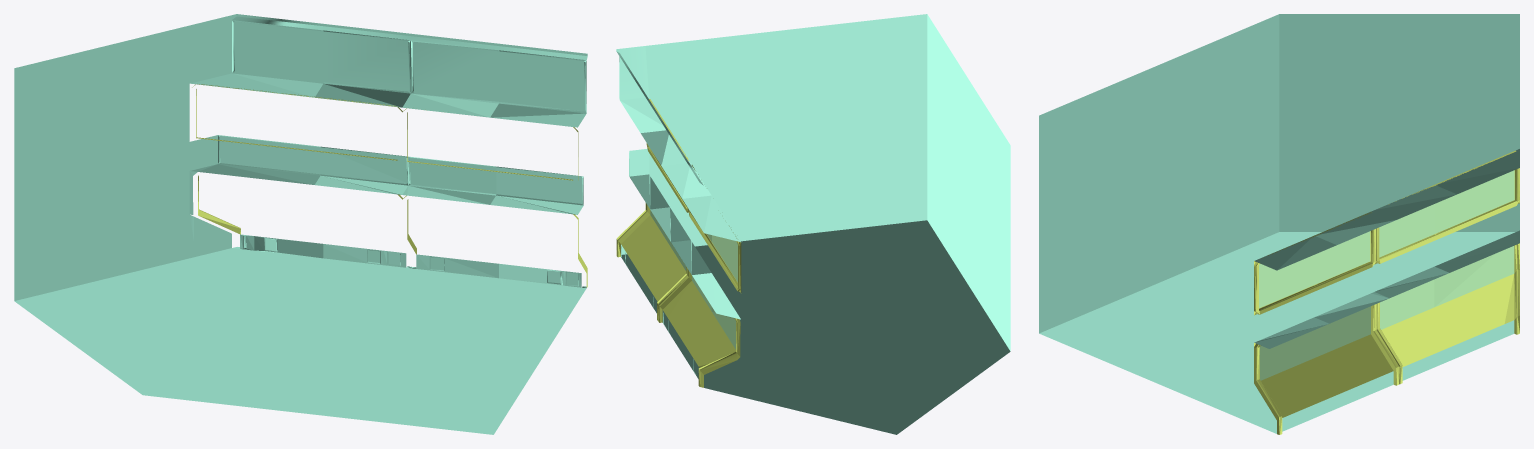
Rendered from uee_stanton_kit_ext_icnr_8x8x8_45d_09_reg.glb.
3 renders of one model, left to right at view 1: azimuth 30°, elevation 25°; view 2: azimuth 150°, elevation 25°; view 3: azimuth 270°, elevation 25°, orthographic. The views are drawn at different scales.
Size of the model in its own units: 16 by 8 by 16.
